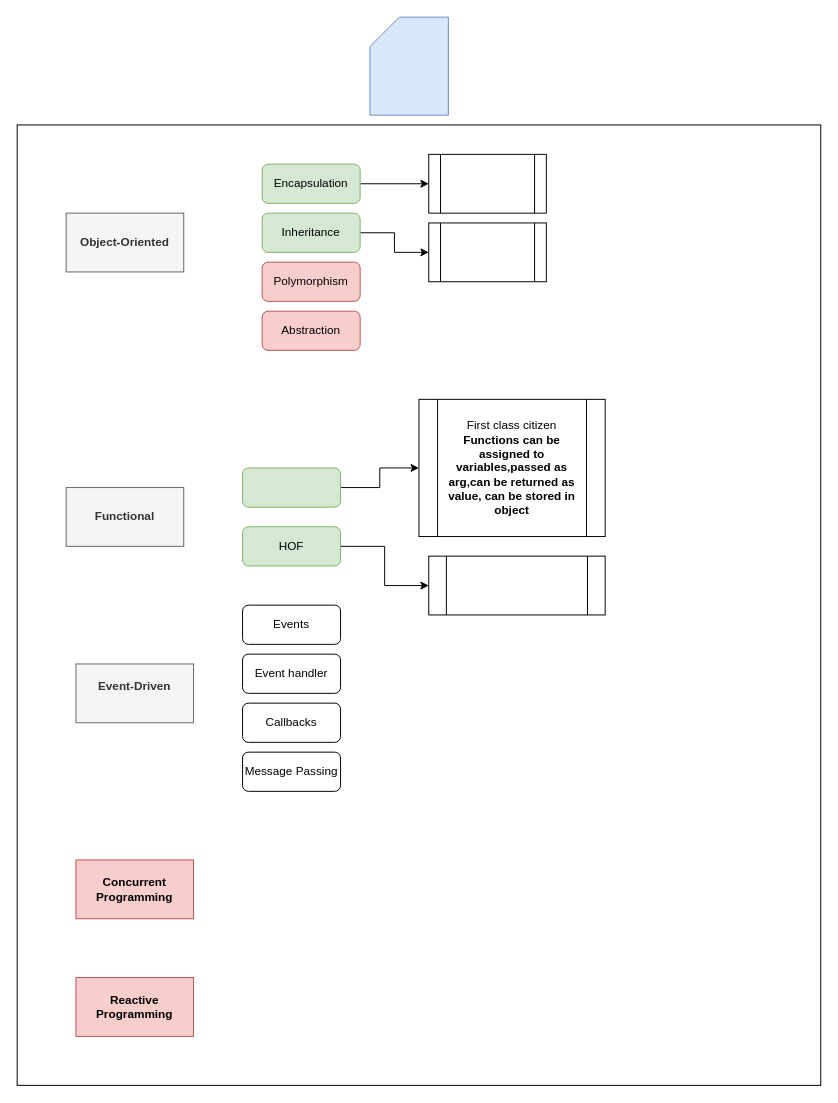
The diagram is 838 pixels wide and 1103 high, and some of its shapes have lost their labels. The centre of each missing label's shape, as x and y in pixels:
"- take a function as argument - return a function" belongs at point 516,585.
"Extends" belongs at point 487,252.
"First class function" belongs at point 291,487.
"JS" belongs at point 408,65.
"Private Fields" belongs at point 487,183.
